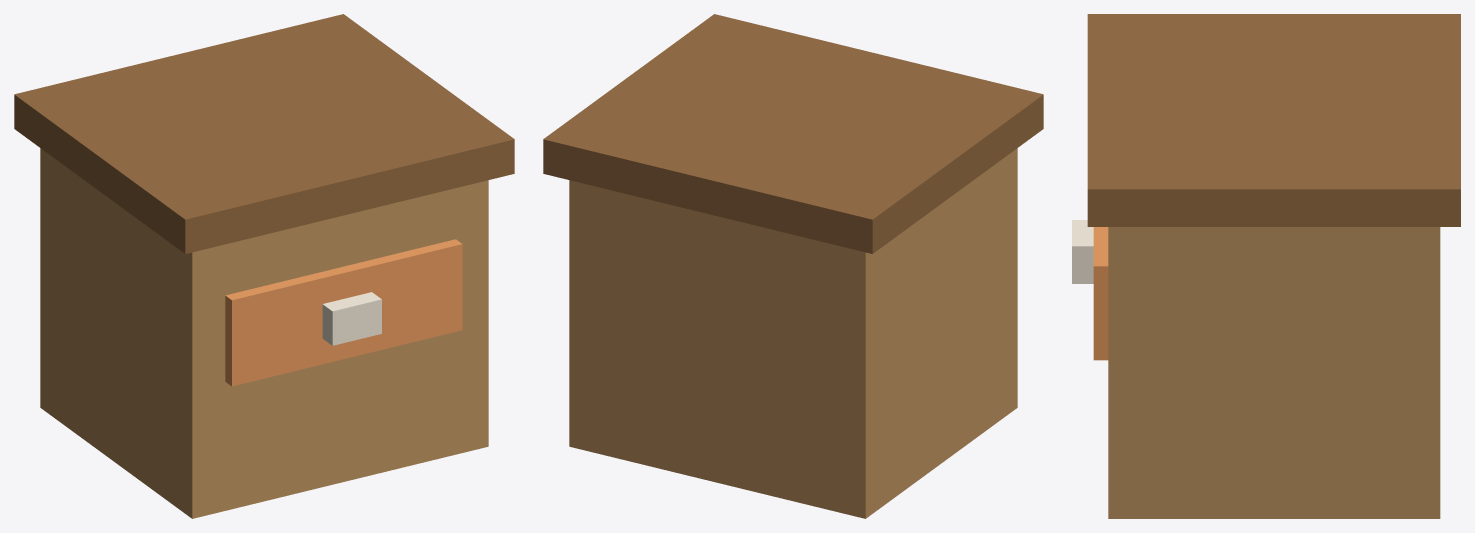
The model's file is nightstand.glb.
The picture shows the model from 3 angles, left to right: view 1: azimuth 30°, elevation 25°; view 2: azimuth 150°, elevation 25°; view 3: azimuth 270°, elevation 25°; orthographic projection. The views are drawn at different scales.
Visible parts, largest first — view 1: nightstand; view 2: nightstand; view 3: nightstand.
Boxes of the visible parts, x1,y1,x2,y2 form: nightstand: (14, 14, 514, 518); nightstand: (543, 14, 1043, 518); nightstand: (1072, 14, 1460, 518).
Bounding box in the file's own units: 20 × 18 × 18.75.
